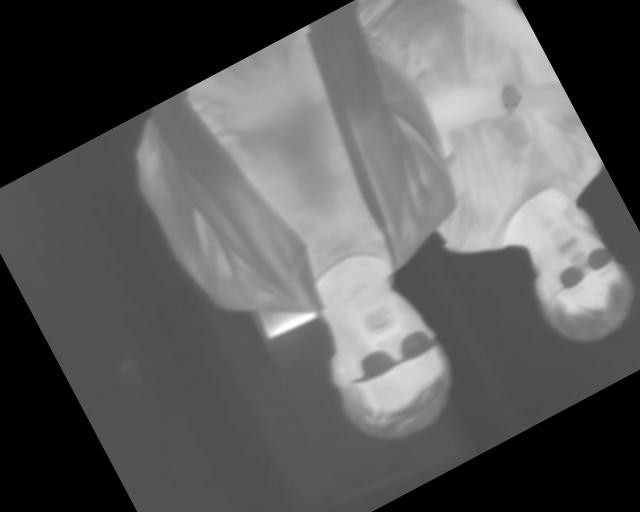face: (296, 267, 475, 460), (509, 208, 640, 359)
